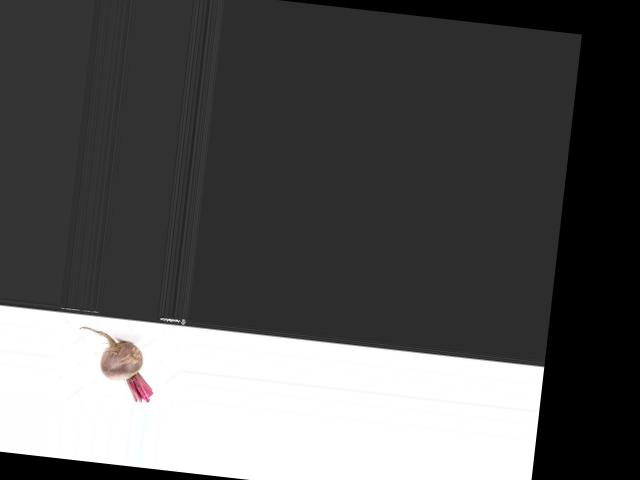beet: (71, 325, 158, 403)
